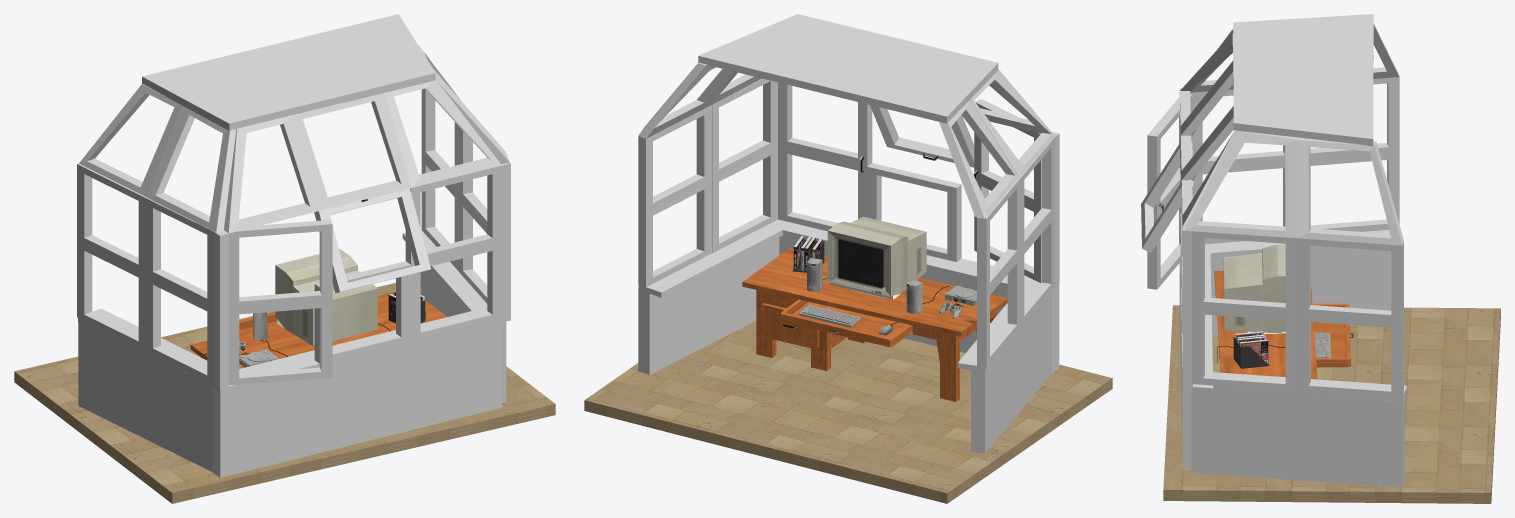
3 renders of one model, left to right at view 1: azimuth 30°, elevation 25°; view 2: azimuth 150°, elevation 25°; view 3: azimuth 270°, elevation 25°, orthographic. The views are drawn at different scales.
Parts seen in each view (by area): view 1: Cube.017, hinge, floor, Cube.019, Cube.012, crt, Cube.023, Cube.028, Cube.027, Cube.006, window.001, Cube.020 (+18 smaller); view 2: floor, hinge, Cube.018, Cube.019, Desk Top, crt, Cube.010, Cube.012, Cube.024, Cube.022, window, Cube.007 (+18 smaller); view 3: floor, Cube.018, hinge, Cube.010, Cube.019, crt, Cube.026, Cube.025, Cube.024, Cube.009, Cube.012, Desk Top (+15 smaller).
Part boxes in pixels (x1,y1,x2,y2): Cube.017: [212, 321, 501, 477]; hinge: [142, 14, 435, 130]; floor: [14, 283, 555, 503]; Cube.019: [78, 322, 212, 471]; Cube.012: [77, 241, 214, 384]; crt: [275, 249, 377, 345]; Cube.023: [147, 105, 236, 232]; Cube.028: [224, 115, 319, 233]; Cube.027: [293, 93, 410, 210]; Cube.006: [229, 219, 332, 308]; window.001: [229, 300, 332, 385]; Cube.020: [384, 80, 501, 187]; floor: [584, 321, 1112, 503]; hinge: [698, 14, 998, 123]; Cube.018: [638, 237, 779, 374]; Cube.019: [971, 292, 1051, 453]; Desk Top: [742, 248, 1007, 336]; crt: [827, 216, 926, 299]; Cube.010: [638, 145, 777, 287]; Cube.012: [977, 212, 1054, 367]; Cube.024: [638, 105, 711, 212]; Cube.022: [939, 100, 1018, 218]; window: [867, 163, 961, 261]; Cube.007: [778, 82, 872, 166]; floor: [1163, 305, 1500, 503]; Cube.018: [1191, 384, 1404, 487]; hinge: [1233, 14, 1373, 146]; Cube.010: [1191, 307, 1403, 398]; Cube.019: [1210, 248, 1391, 335]; crt: [1223, 244, 1285, 333]; Cube.026: [1296, 137, 1403, 245]; Cube.025: [1184, 130, 1296, 237]; Cube.024: [1296, 238, 1403, 322]; Cube.009: [1191, 231, 1296, 314]; Cube.012: [1192, 152, 1399, 244]; Desk Top: [1214, 271, 1317, 379].
Size of the model in its own units: 2.72 by 2.27 by 2.2.
26 materials, 17 textured.
